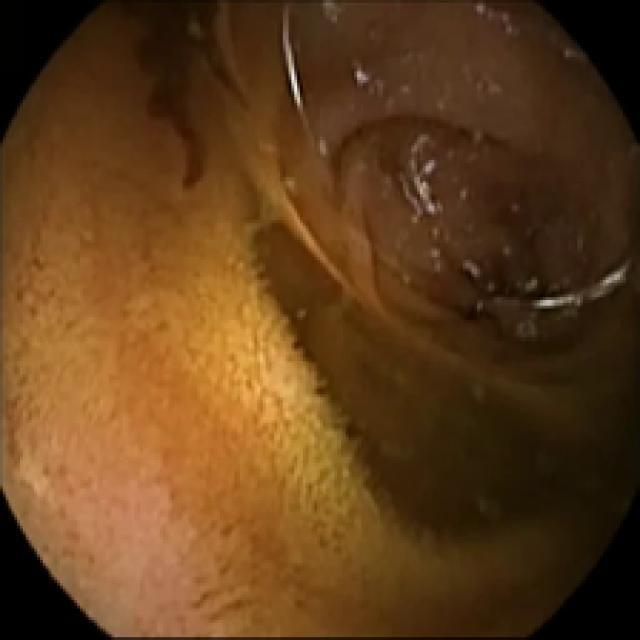bleeding: (111, 0, 252, 191)
